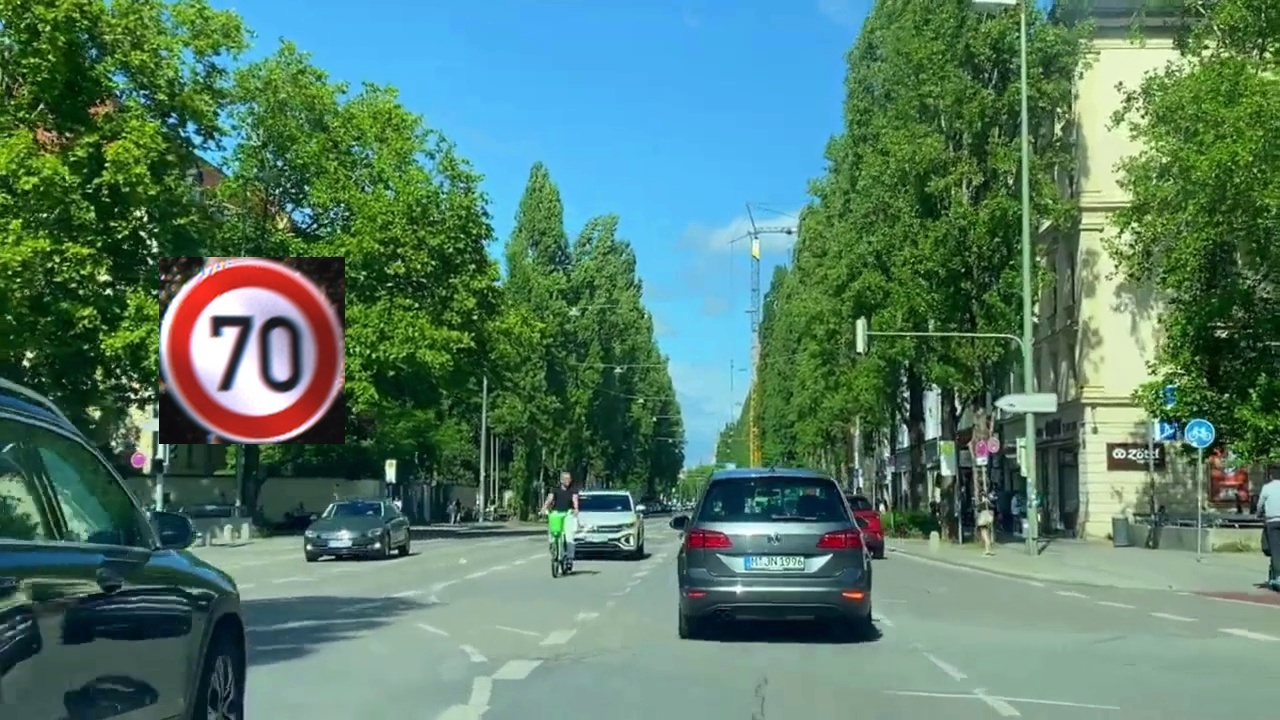Speed 70: (159, 257, 345, 444)
